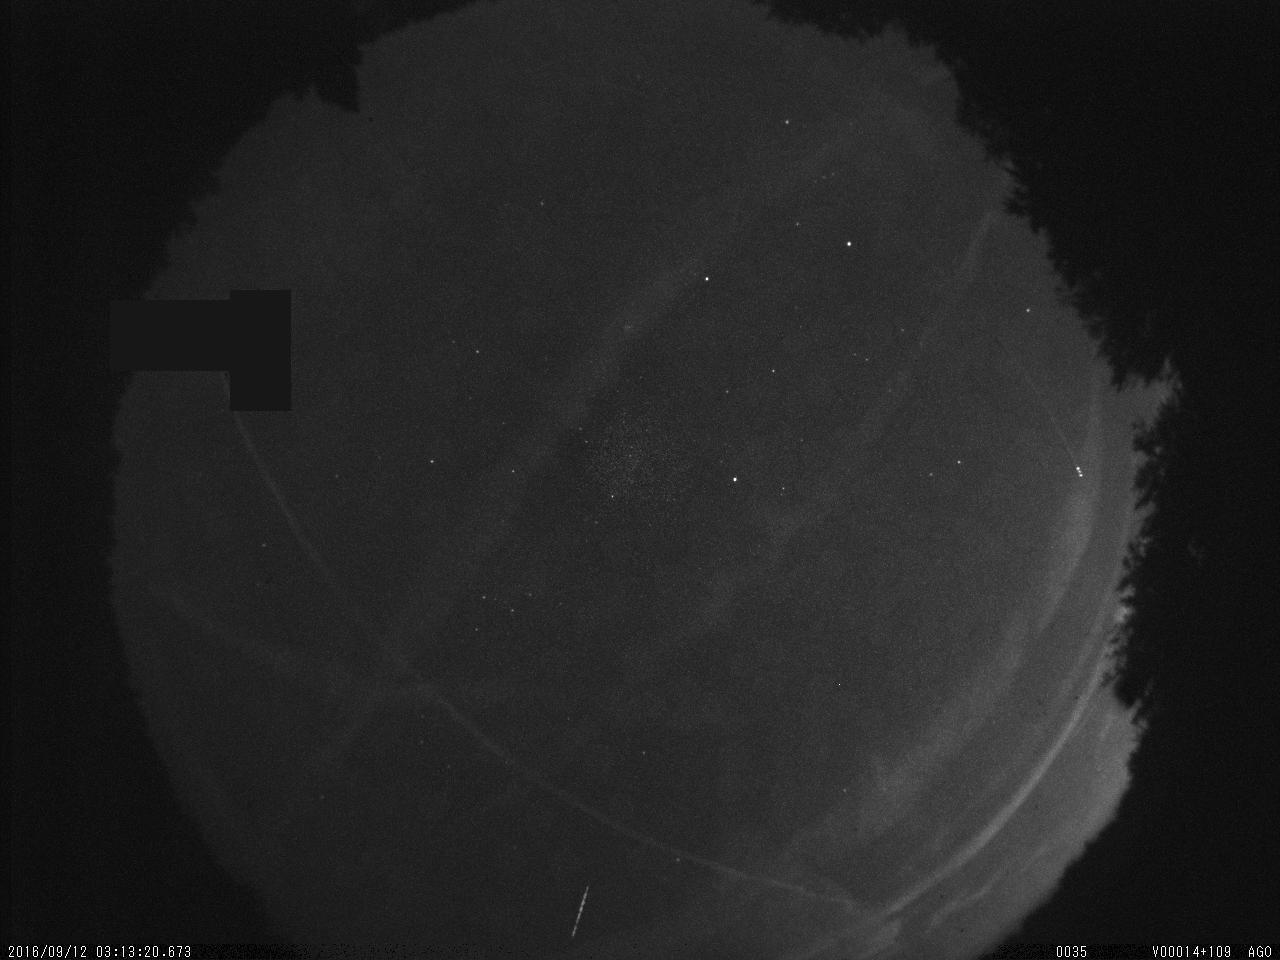meteor: (558, 876, 610, 947)
